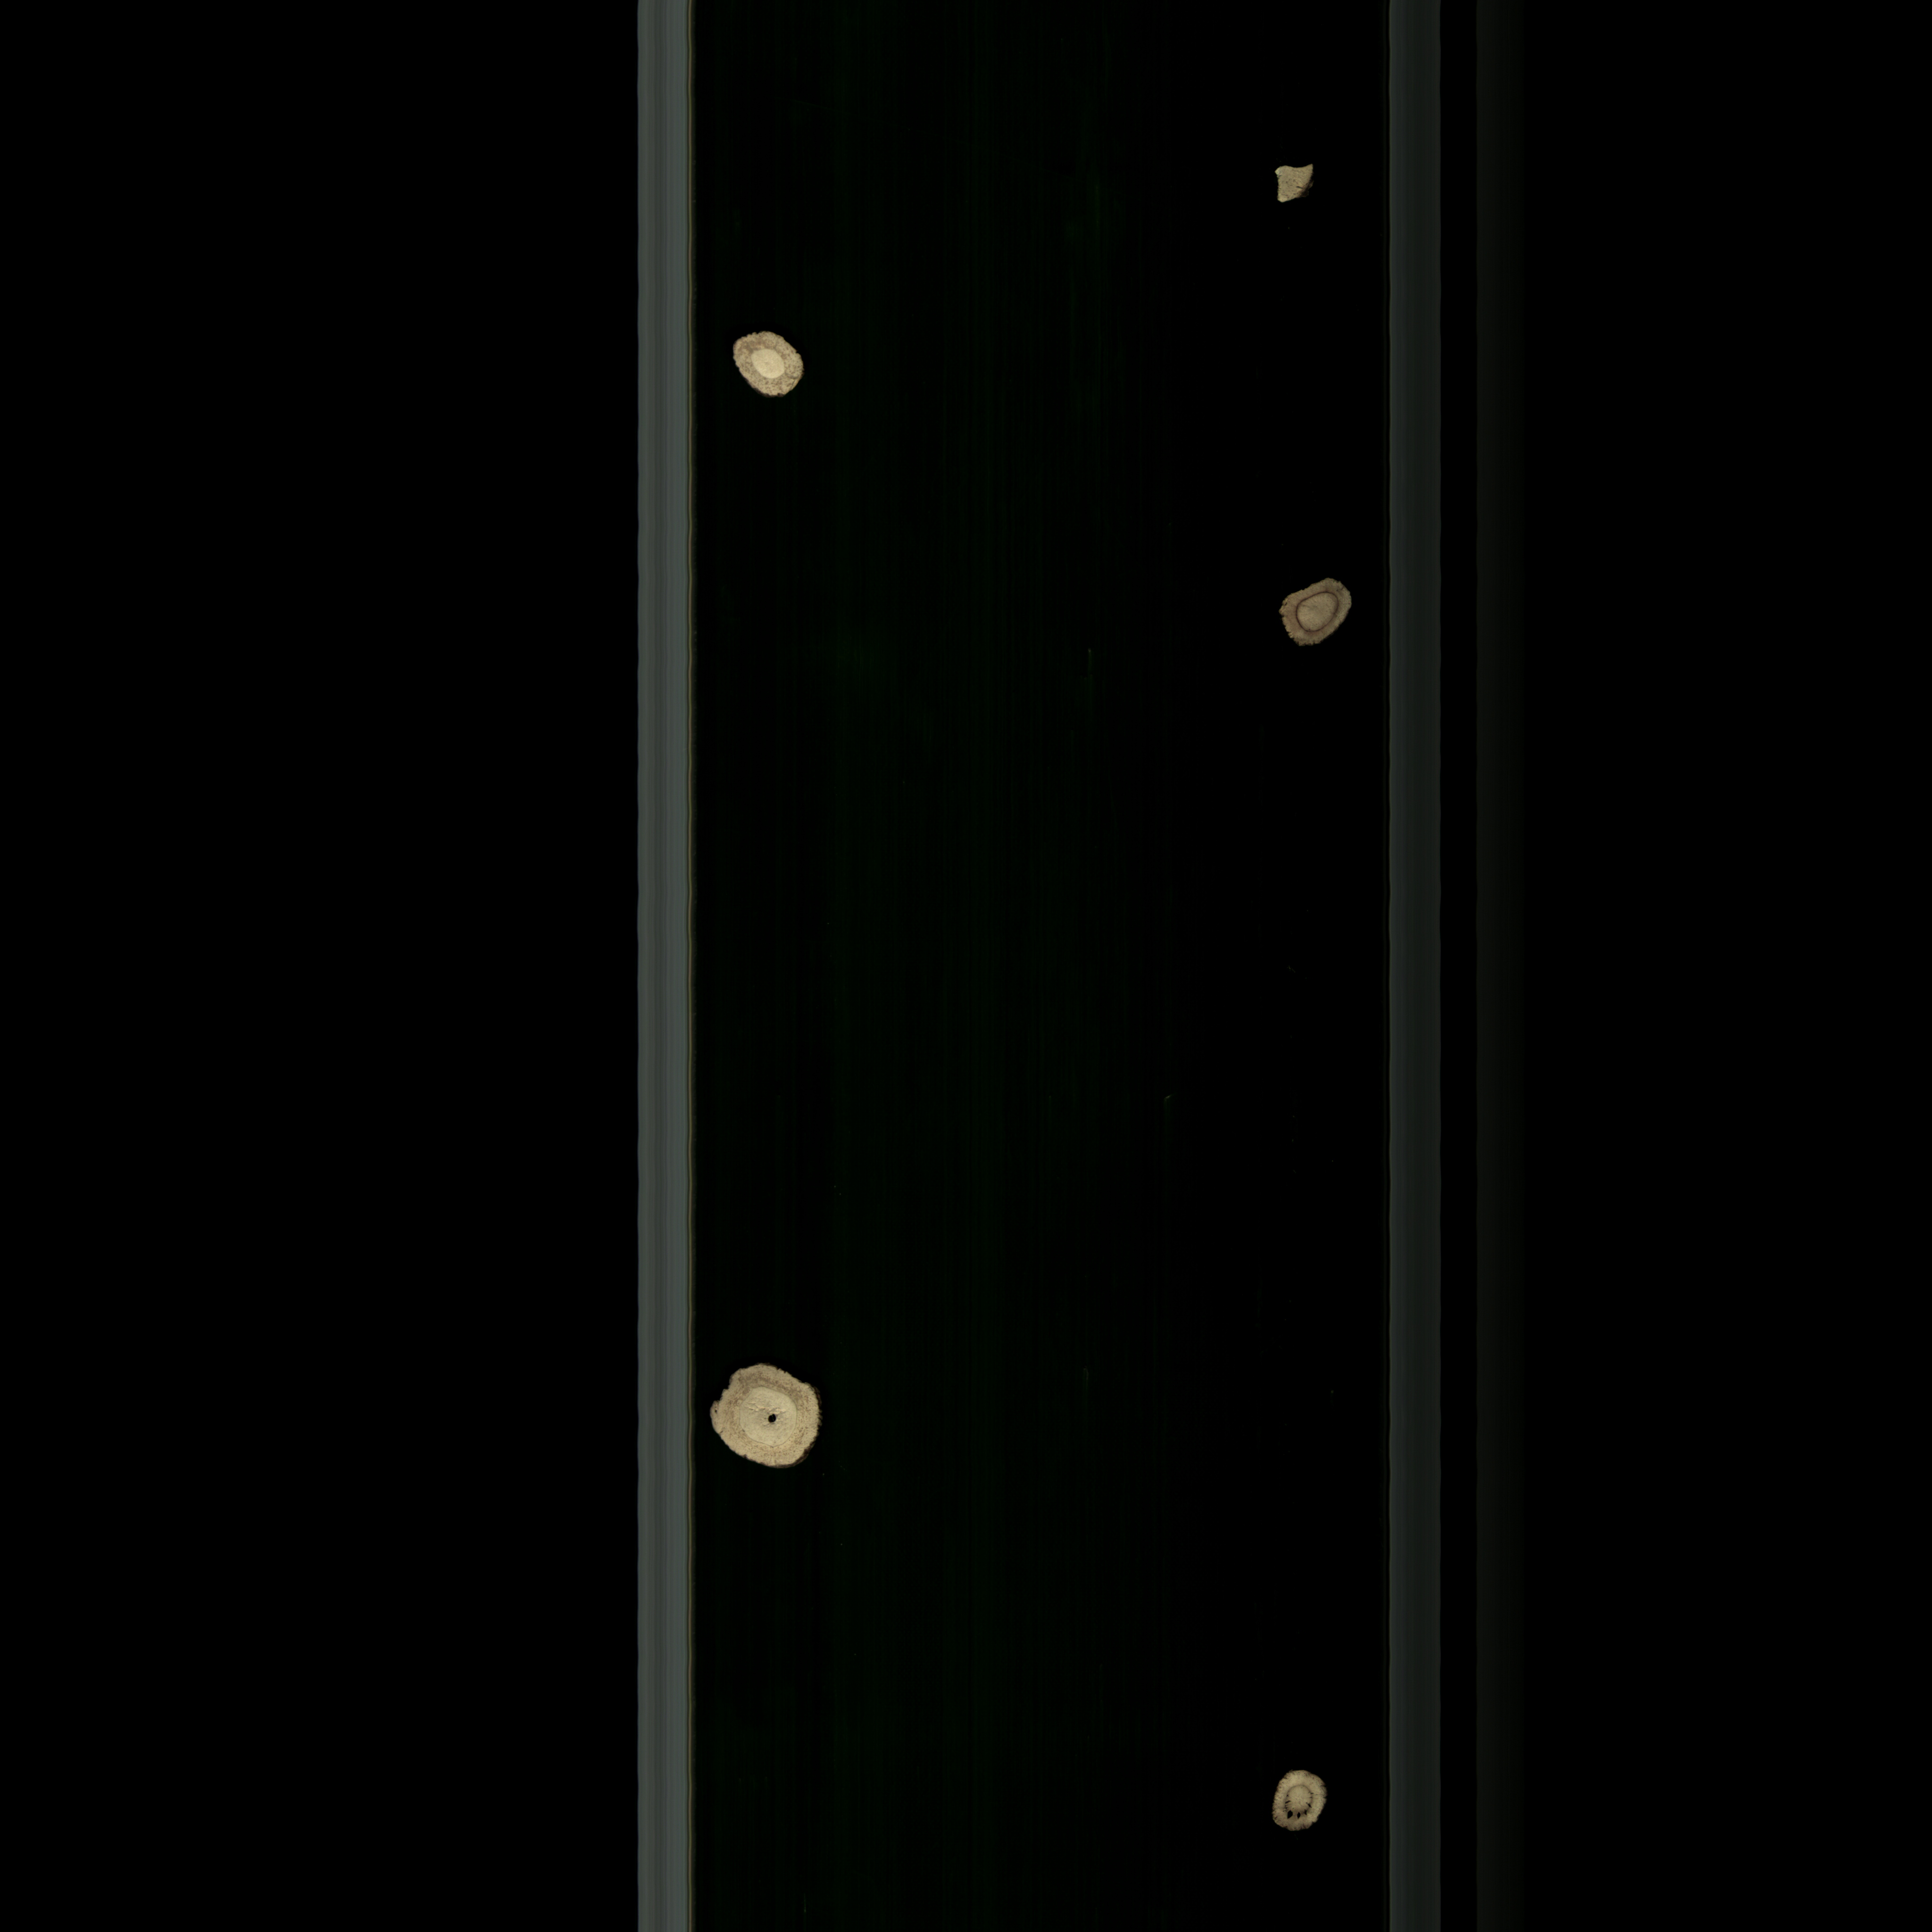dreg: (1260, 156, 1325, 211)
hole: (704, 1345, 826, 1484)
moldy: (1270, 571, 1359, 656), (1263, 1752, 1332, 1849)
